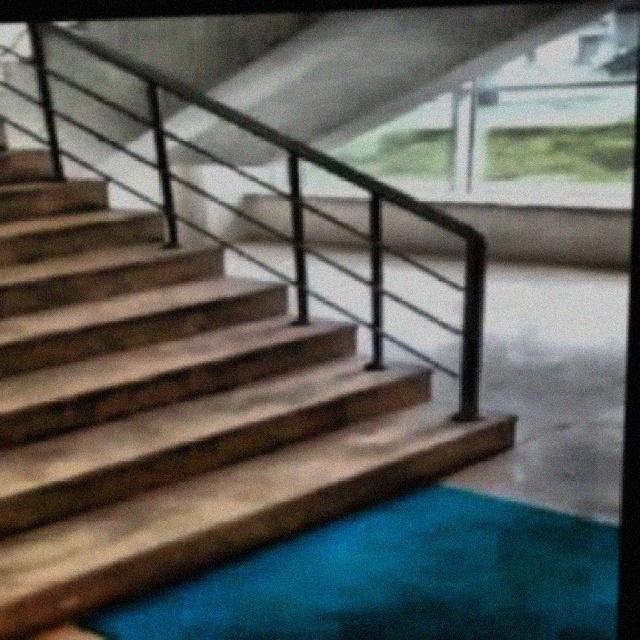stair: (2, 44, 530, 638)
